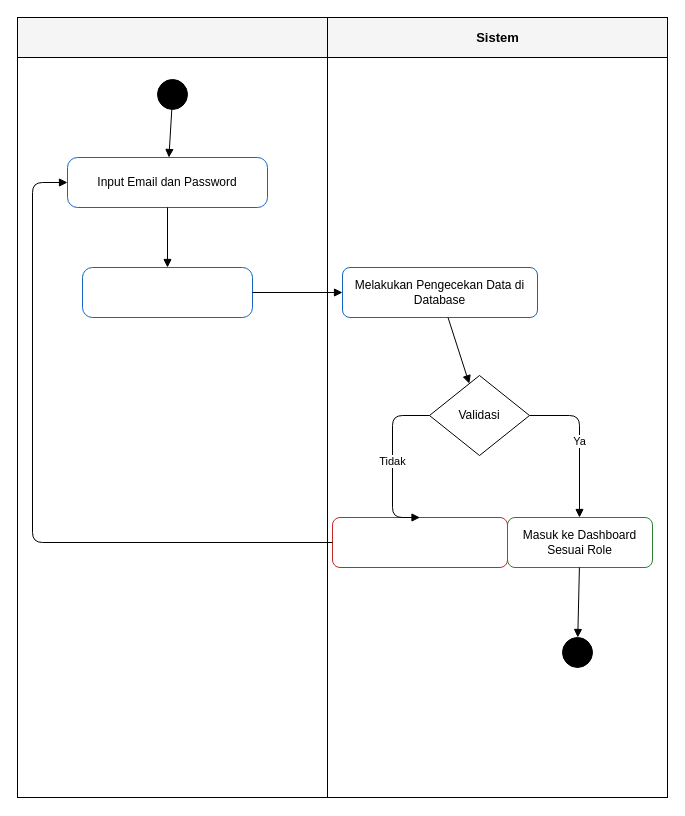
Some shapes in this 685 by 816 pixel diagram are drawn without their labels. The shapes that lost their labels are listed below. From the top down, each one's centre as x and y in pixels, then its label:
(x=172, y=37): Aktor
(x=167, y=292): Klik Tombol Login
(x=420, y=542): Pesan "Email atau Password Salah"
